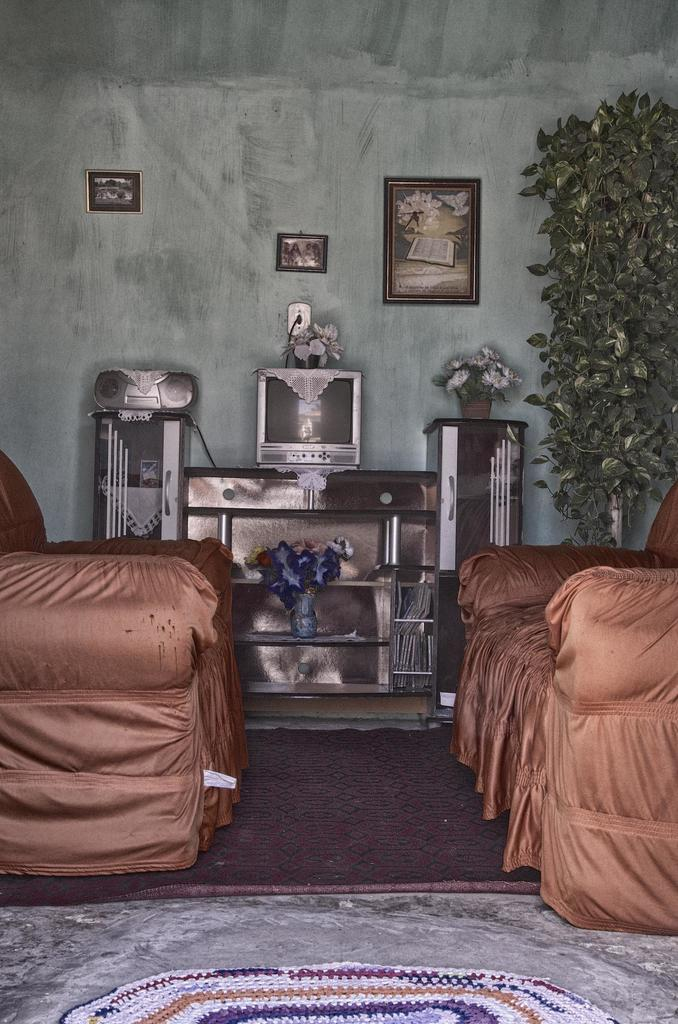Couch: (449, 476, 677, 928), (0, 506, 254, 892)
